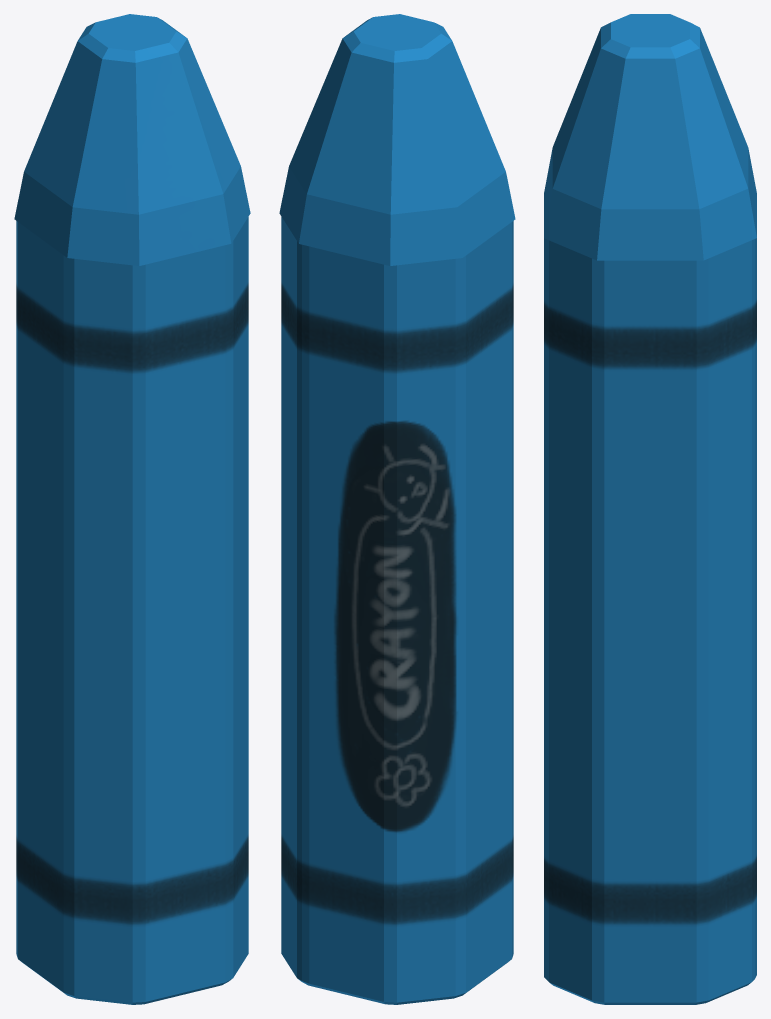
File: Crayon.fbx
3 views of the same model, side by side, from view 1: azimuth 30°, elevation 25°; view 2: azimuth 150°, elevation 25°; view 3: azimuth 270°, elevation 25° (orthographic).
Visible parts, largest first — view 1: crayon; view 2: crayon; view 3: crayon.
Boxes of the visible parts, <box> form: crayon: <box>14,14,250,1004</box>; crayon: <box>279,14,515,1004</box>; crayon: <box>544,14,756,1004</box>.
Size of the model in its own units: 2.56 by 12.38 by 2.56.
